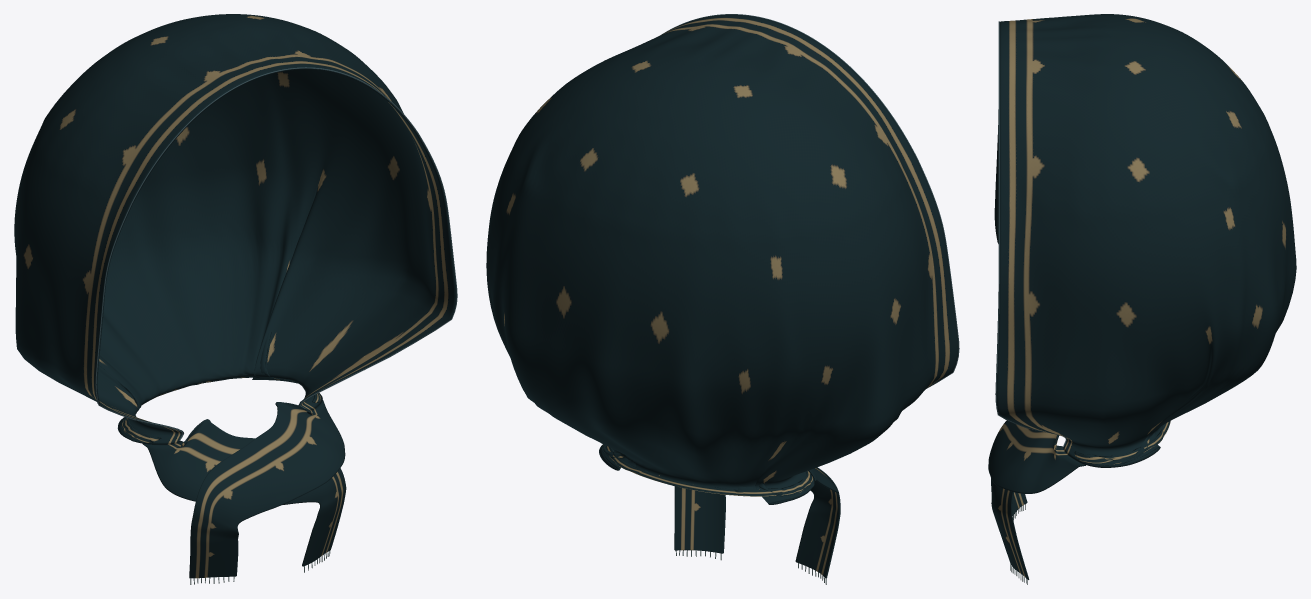
File: Feminine-jersey-pashmina236-headgear.glb
3 views of the same model, side by side, from view 1: azimuth 30°, elevation 25°; view 2: azimuth 150°, elevation 25°; view 3: azimuth 270°, elevation 25° (orthographic). The views are drawn at different scales.
Parts seen in each view (by area): view 1: 226 headgear / Headwear / continuous woven pashmina236, 226 headgear / Headwear / face edge236; view 2: 226 headgear / Headwear / continuous woven pashmina236, 226 headgear / Headwear / face edge236; view 3: 226 headgear / Headwear / continuous woven pashmina236, 226 headgear / Headwear / face edge236.
Part boxes in pixels (x1=…): 226 headgear / Headwear / continuous woven pashmina236: x1=14, y1=14, x2=456, y2=578; 226 headgear / Headwear / face edge236: x1=95, y1=67, x2=457, y2=439; 226 headgear / Headwear / continuous woven pashmina236: x1=486, y1=14, x2=958, y2=578; 226 headgear / Headwear / face edge236: x1=661, y1=14, x2=959, y2=388; 226 headgear / Headwear / continuous woven pashmina236: x1=988, y1=14, x2=1296, y2=579; 226 headgear / Headwear / face edge236: x1=995, y1=21, x2=1066, y2=445.
Bounding box in the file's own units: 1.02 × 1.35 × 0.7273.
Materials: 3 (1 with a texture image).
